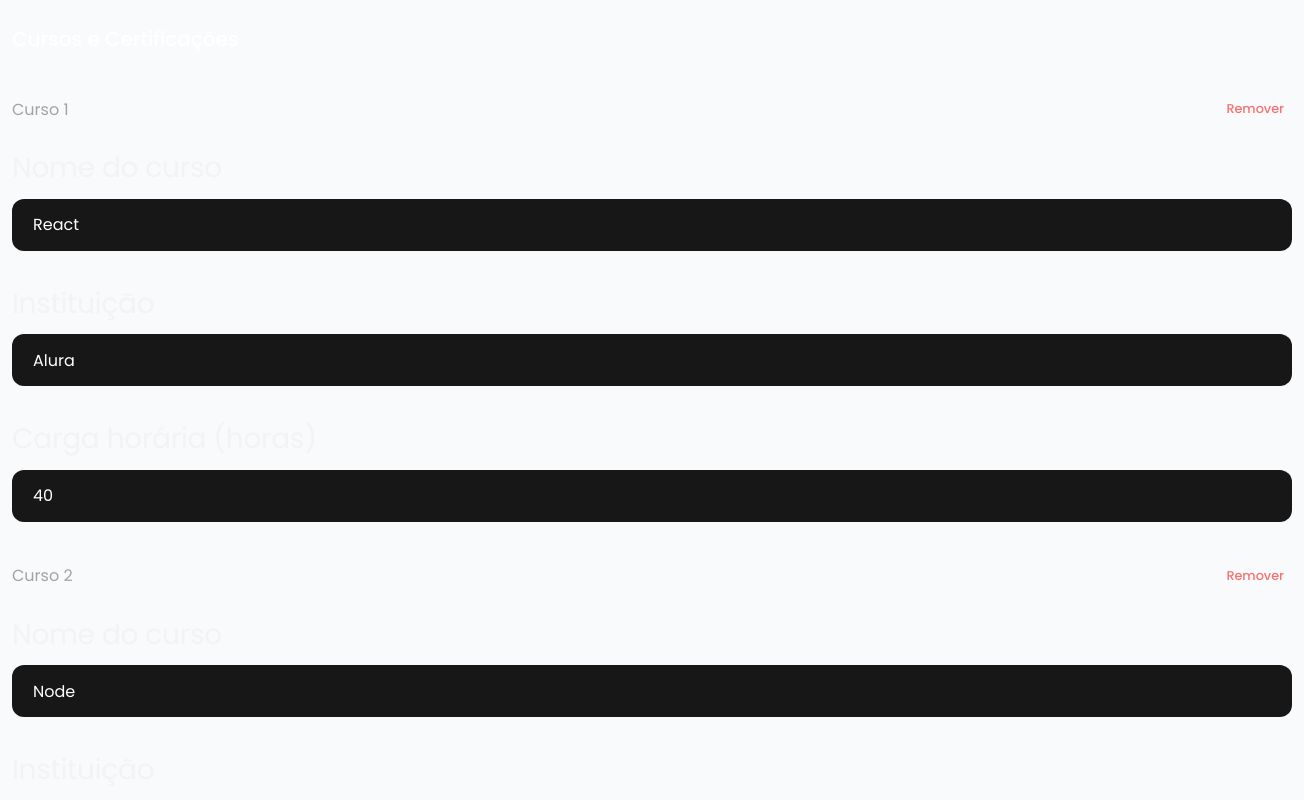
Test case: FormularioCursos › remove uma entrada de curso ao clicar no botão de remoção
What coordinates should you click on to do the following:
click the button with aria-label "Remover curso 1"
I would click on:
 (1255, 109)
Its box is [1218,87,1292,131].
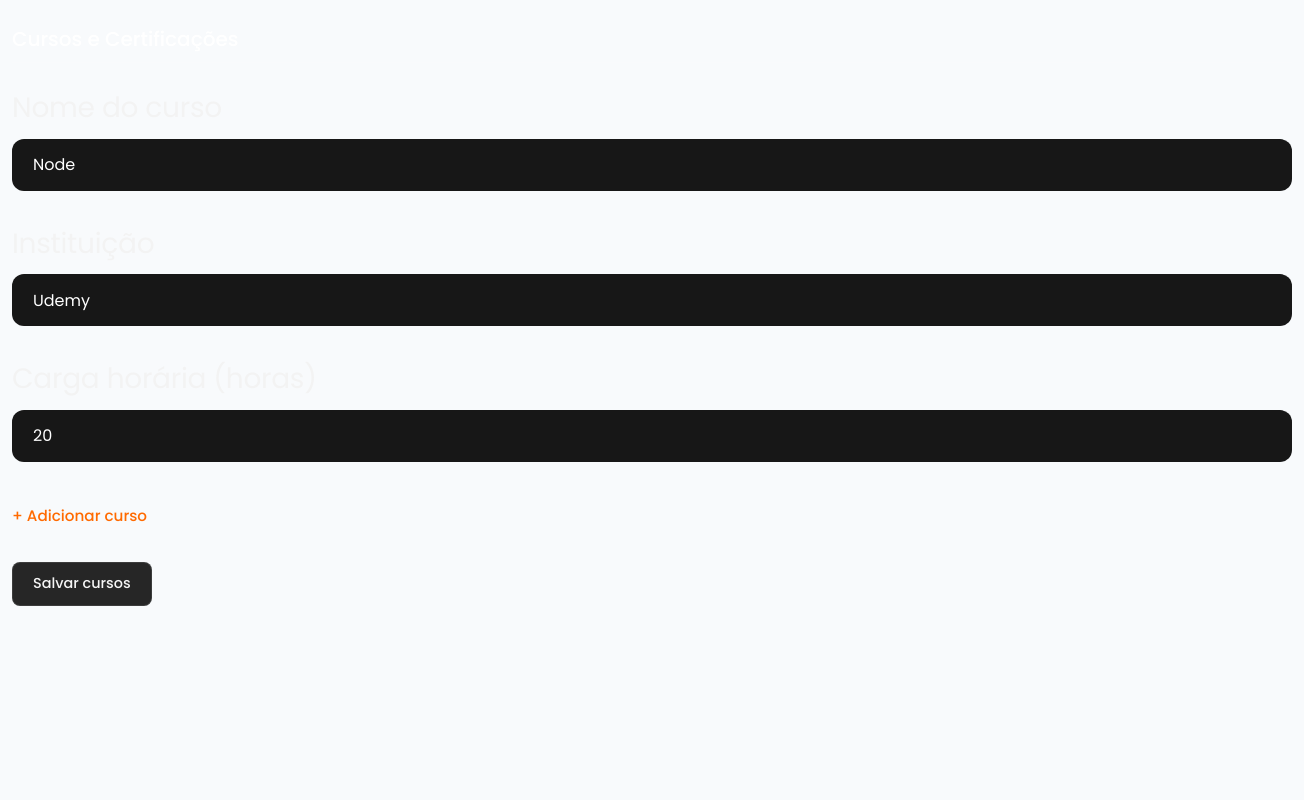
Expected: the number of fields labelled "Nome do curso" is 1, [12,139,1292,191]
Expected: the field labelled "Nome do curso" holds "Node", [12,139,1292,191]
